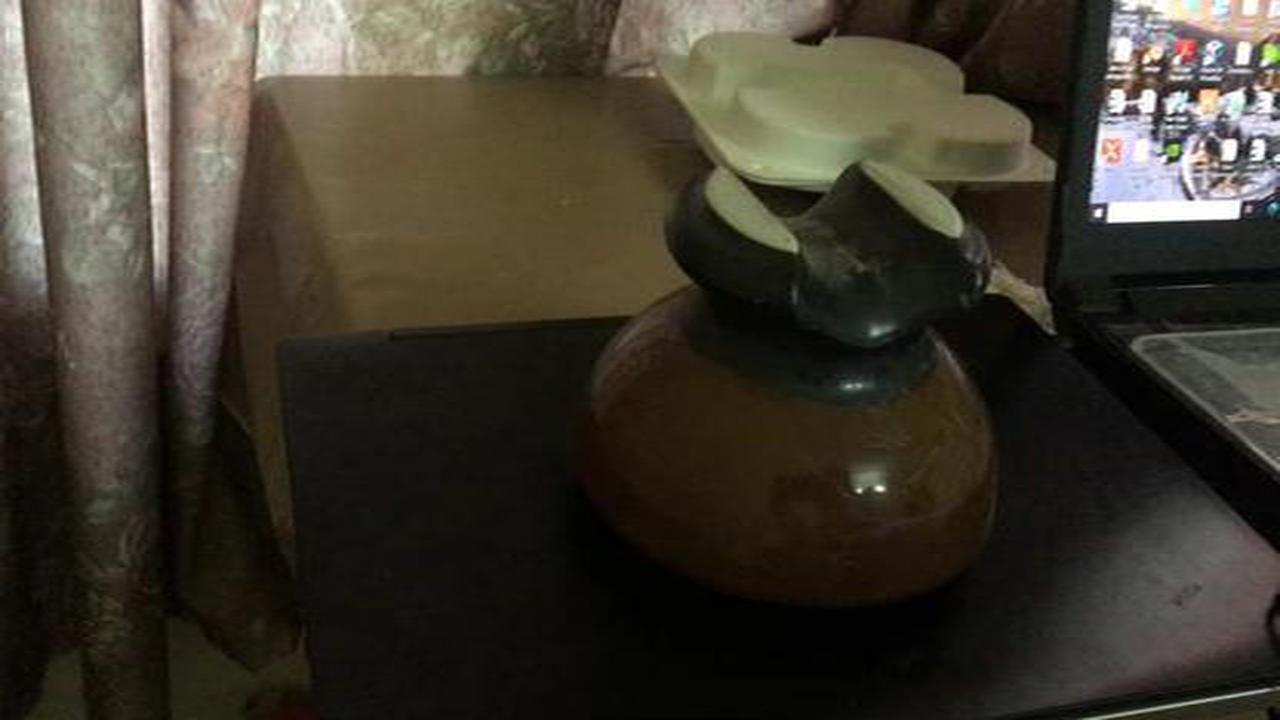insulator_pin: (561, 148, 1041, 634)
